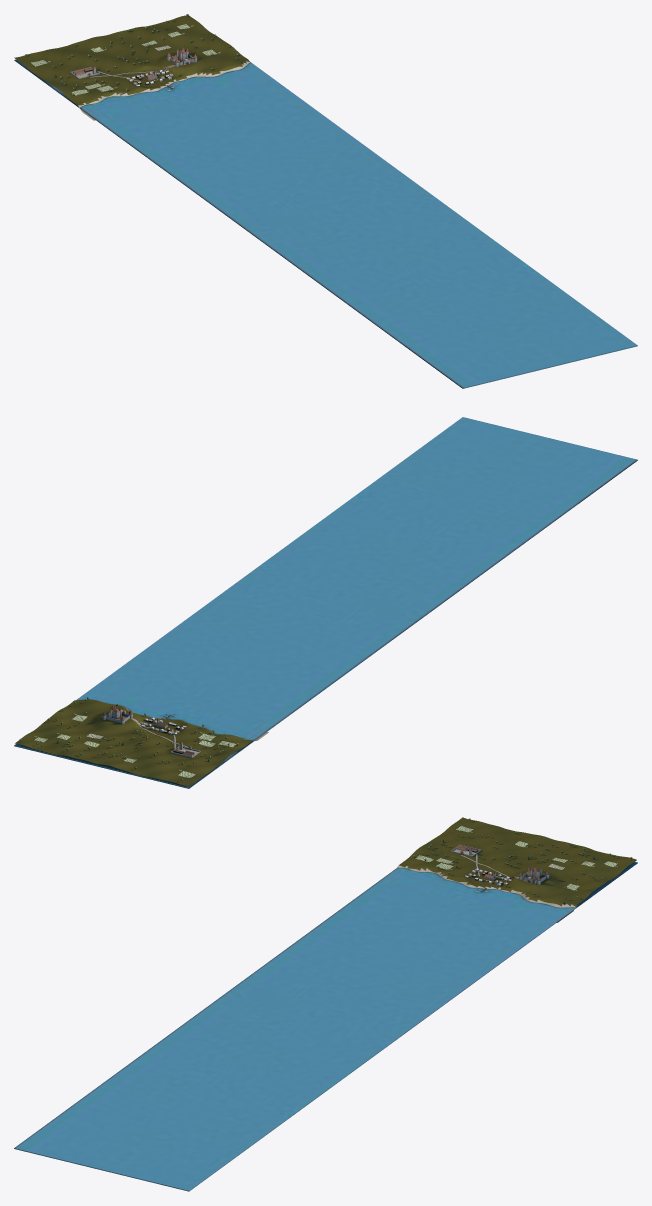
Rendered from fief2.glb.
3 views of the same model, one above another, from view 1: azimuth 30°, elevation 25°; view 2: azimuth 150°, elevation 25°; view 3: azimuth 330°, elevation 25° (orthographic).
Parts seen in each view (by area): view 1: props_water, site_terrain, props_fields; view 2: props_water, site_terrain, props_fields; view 3: props_water, site_terrain, props_fields.
Part boxes in pixels (x1,y1,x2,y2): props_water: [14, 59, 637, 388]; site_terrain: [14, 15, 249, 120]; props_fields: [31, 24, 220, 95]; props_water: [14, 417, 637, 788]; site_terrain: [15, 699, 268, 785]; props_fields: [34, 713, 236, 777]; props_water: [14, 862, 637, 1191]; site_terrain: [397, 817, 636, 922]; props_fields: [415, 826, 617, 890].
Bounding box in the file's own units: 659 × 70.95 × 2920.
Materials: 9 (9 with a texture image).
